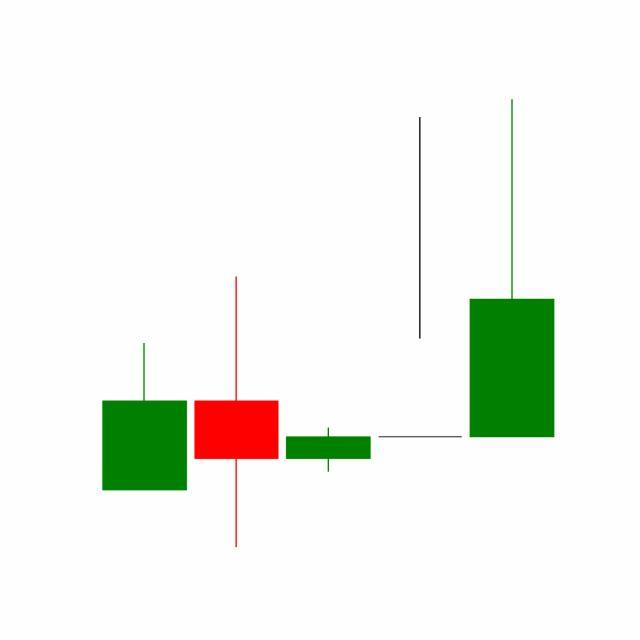Gravestone Doji: (374, 114, 468, 441)
